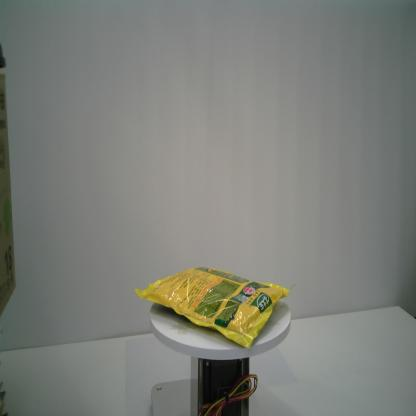Seasoner: (133, 264, 292, 352)
